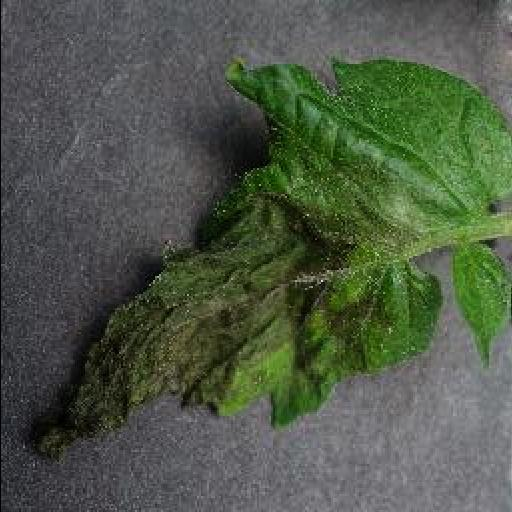disease_tomato: (32, 58, 512, 464)
